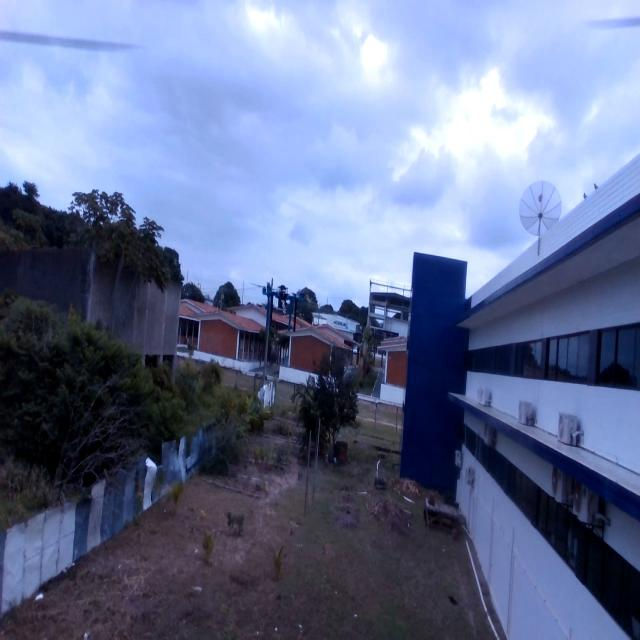-uav-: (247, 265, 311, 348)
